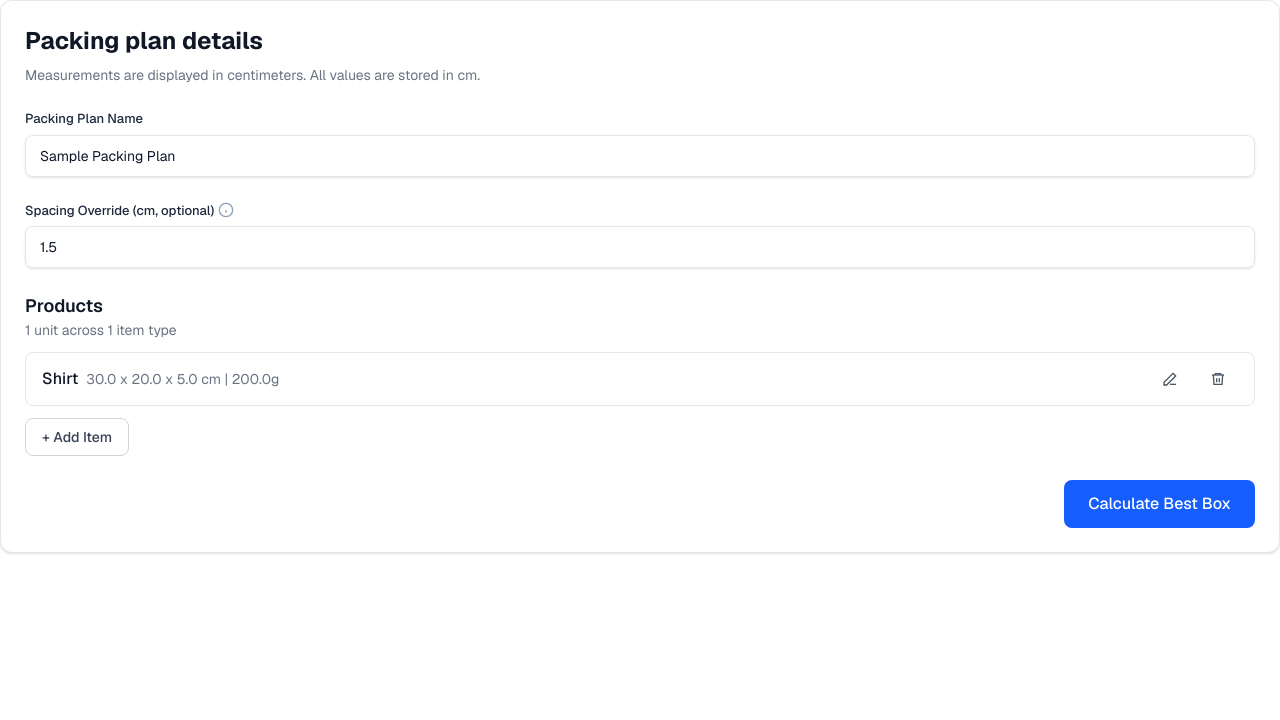
Test: PackingPlanDetailForm › renders the quota upgrade error with a link to pricing
This screenshot has width=1280, height=720.
Click the button "Calculate Best Box" at (1160, 504), box [1064,480,1255,528]
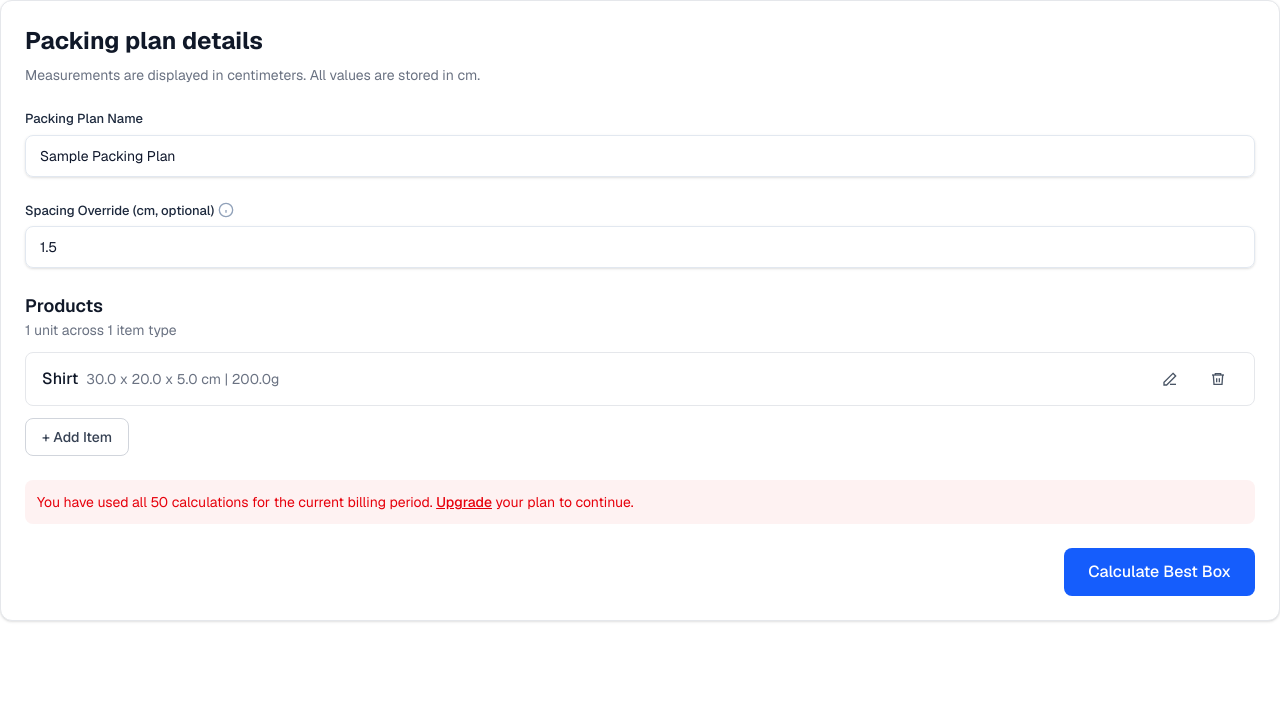
Result: the text "You have used all 50 calculations for the current billing period." is shown at [37,493,436,511]
Result: the text "your plan to continue." is shown at [496,493,634,511]
